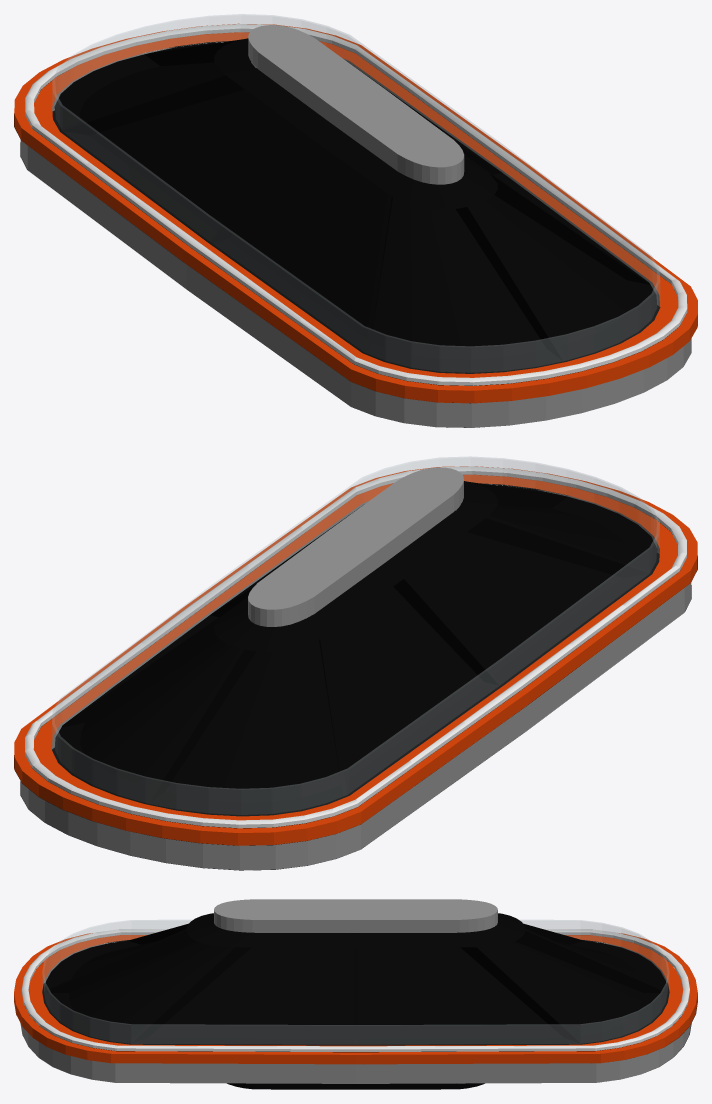
Rendered from fruit shelf.fbx.
The picture shows the model from 3 angles, top to bottom: view 1: azimuth 30°, elevation 25°; view 2: azimuth 150°, elevation 25°; view 3: azimuth 270°, elevation 25°; orthographic projection. The views are drawn at different scales.
Parts seen in each view (by area): view 1: pasted__group1, polySurface5, polySurface1, polySurface7, polySurface3, polySurface10, polySurface8; view 2: pasted__group1, polySurface5, polySurface1, polySurface7, polySurface3, polySurface10, polySurface8; view 3: pasted__group1, polySurface5, polySurface1, polySurface7, polySurface3, polySurface10, polySurface8.
Boxes of the visible parts, x1,y1,x2,y2 form: pasted__group1: (14,38,679,427); polySurface5: (52,14,659,373); polySurface1: (20,43,691,427); polySurface7: (14,23,697,403); polySurface3: (248,25,464,184); polySurface10: (25,24,687,385); polySurface8: (34,32,678,377); pasted__group1: (14,481,697,870); polySurface5: (52,456,659,815); polySurface1: (20,484,691,870); polySurface7: (14,466,697,845); polySurface3: (248,467,463,626); polySurface10: (25,466,686,828); polySurface8: (34,474,677,820); pasted__group1: (29,913,697,1089); polySurface5: (42,920,669,1044); polySurface1: (20,942,691,1083); polySurface7: (14,933,697,1064); polySurface3: (214,899,497,932); polySurface10: (21,929,689,1051); polySurface8: (28,935,682,1046).
Bounding box in the file's own units: 8.82 × 5.21 × 20.32.
